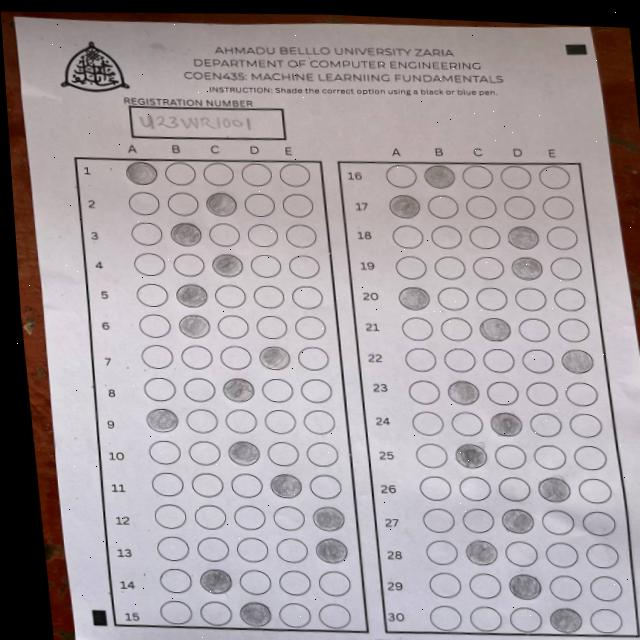bubble: (507, 572, 542, 600), (549, 606, 584, 634), (199, 567, 233, 595), (269, 472, 303, 500), (536, 475, 570, 503), (314, 536, 348, 564), (238, 600, 272, 628), (124, 160, 159, 187), (203, 190, 238, 217), (500, 507, 535, 534), (145, 406, 179, 433), (507, 224, 541, 251), (312, 505, 346, 532), (388, 193, 421, 220), (465, 538, 498, 565), (175, 282, 209, 308), (560, 348, 594, 374), (510, 255, 544, 281), (446, 379, 480, 405), (397, 285, 430, 311), (227, 440, 260, 466), (490, 411, 523, 437), (454, 442, 487, 468), (177, 313, 211, 338), (211, 252, 243, 278), (423, 163, 456, 188), (169, 221, 202, 246), (258, 345, 291, 370), (222, 377, 255, 402), (478, 316, 511, 341)
